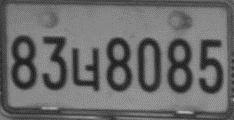0: (136, 36, 161, 92)
3: (41, 36, 67, 91)
5: (196, 38, 223, 94)
8: (167, 37, 194, 93), (105, 36, 132, 91), (11, 34, 36, 89)
너: (70, 46, 100, 92)
